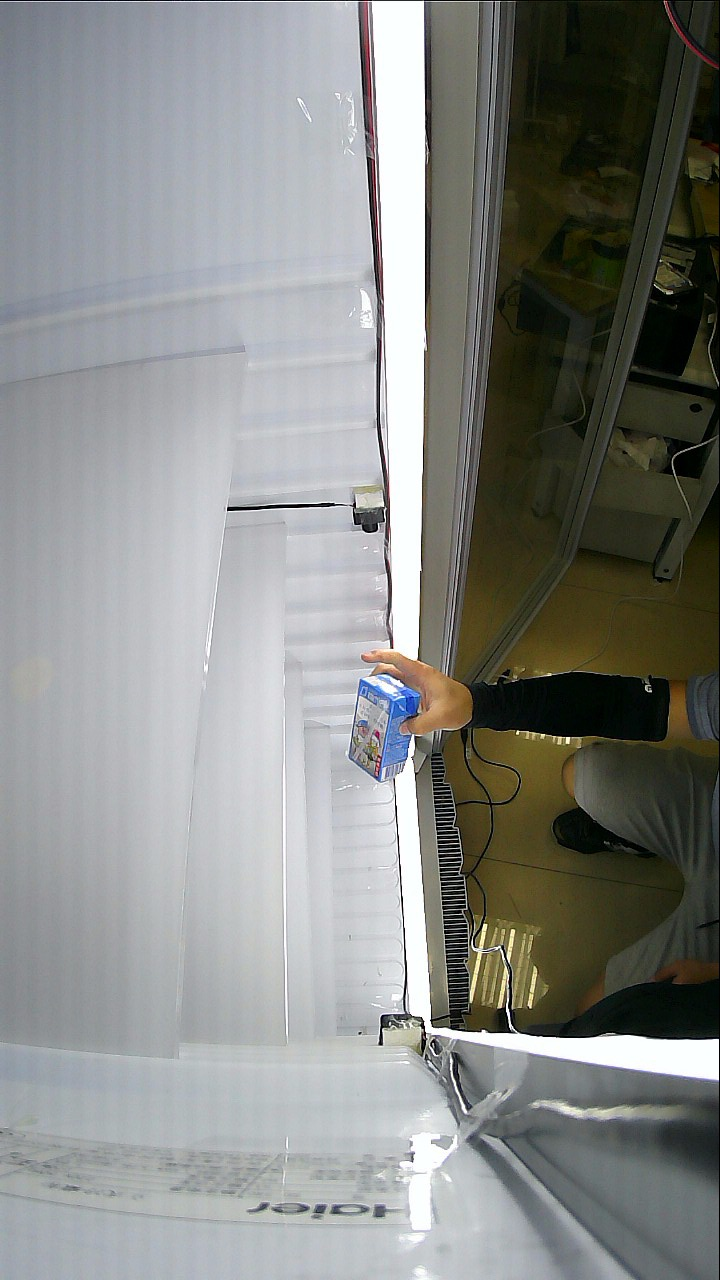VitaSoyOriginal: (350, 653, 502, 784)
